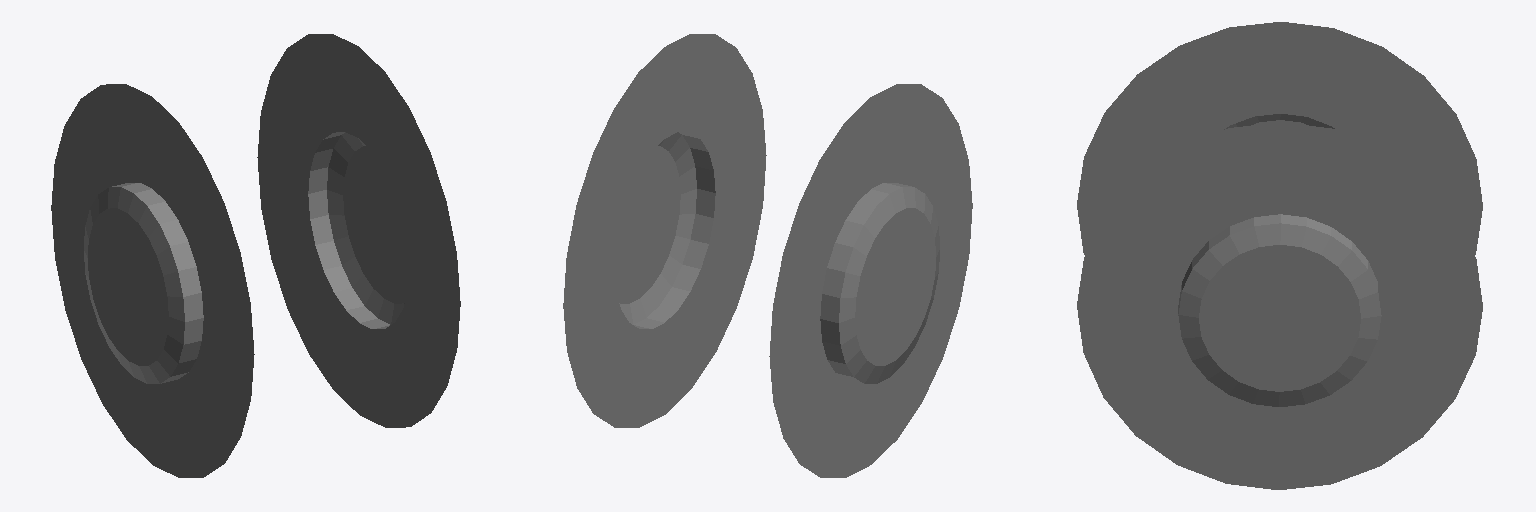
The model's file is WheelBR_Plate.obj.
3 views of the same model, side by side, from view 1: azimuth 30°, elevation 25°; view 2: azimuth 150°, elevation 25°; view 3: azimuth 270°, elevation 25° (orthographic).
Visible parts, largest first — view 1: WheelBR_Plate; view 2: WheelBR_Plate; view 3: WheelBR_Plate.
Boxes of the visible parts, <box> form: WheelBR_Plate: <box>51,34,460,477</box>; WheelBR_Plate: <box>563,34,972,477</box>; WheelBR_Plate: <box>1077,22,1482,489</box>.
Size of the model in its own units: 1.39 by 1.92 by 1.92.